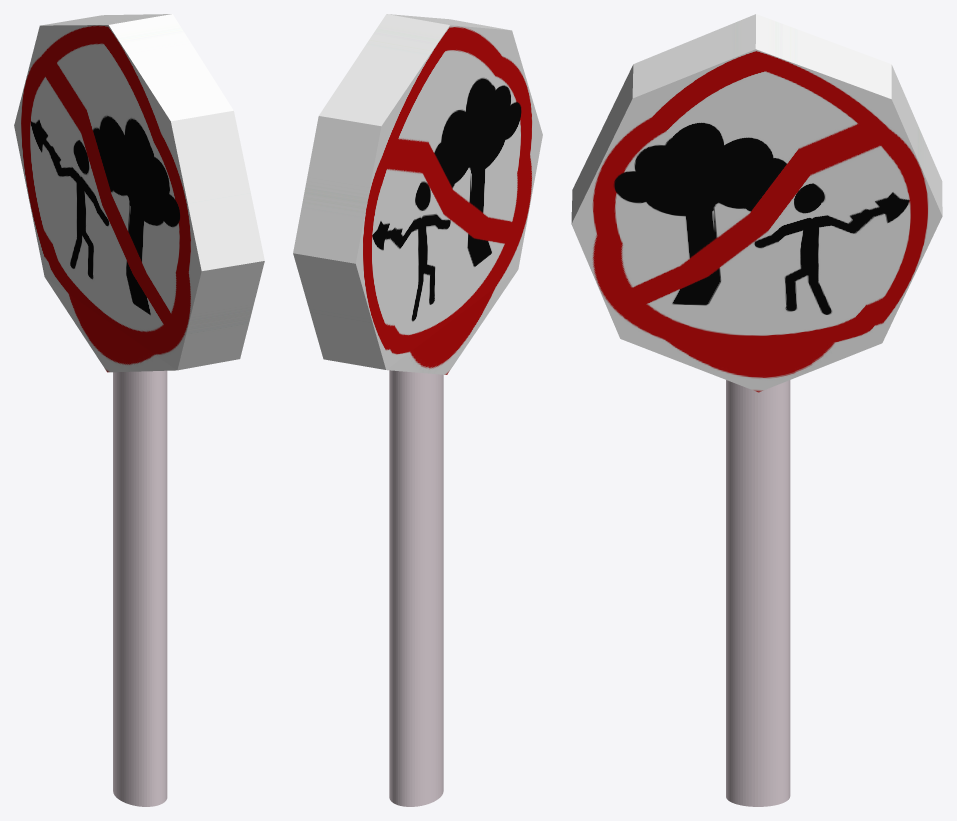
Rendered from placa2_arvore.fbx.
The picture shows the model from 3 angles, left to right: view 1: azimuth 30°, elevation 25°; view 2: azimuth 150°, elevation 25°; view 3: azimuth 270°, elevation 25°; orthographic projection.
Parts seen in each view (by area): view 1: Cylinder.002, Cylinder.001; view 2: Cylinder.002, Cylinder.001; view 3: Cylinder.002, Cylinder.001.
Part boxes in pixels (x1,y1,x2,y2): Cylinder.002: [14, 14, 264, 372]; Cylinder.001: [113, 370, 167, 806]; Cylinder.002: [293, 14, 542, 374]; Cylinder.001: [389, 370, 443, 806]; Cylinder.002: [571, 14, 942, 392]; Cylinder.001: [726, 380, 790, 806].
Size of the model in its own units: 40.23 by 468 by 205.
